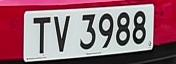3: (76, 14, 97, 53)
8: (115, 9, 132, 49), (132, 8, 147, 49)
9: (96, 11, 115, 50)
T: (30, 14, 52, 58)
V: (52, 16, 72, 55)
